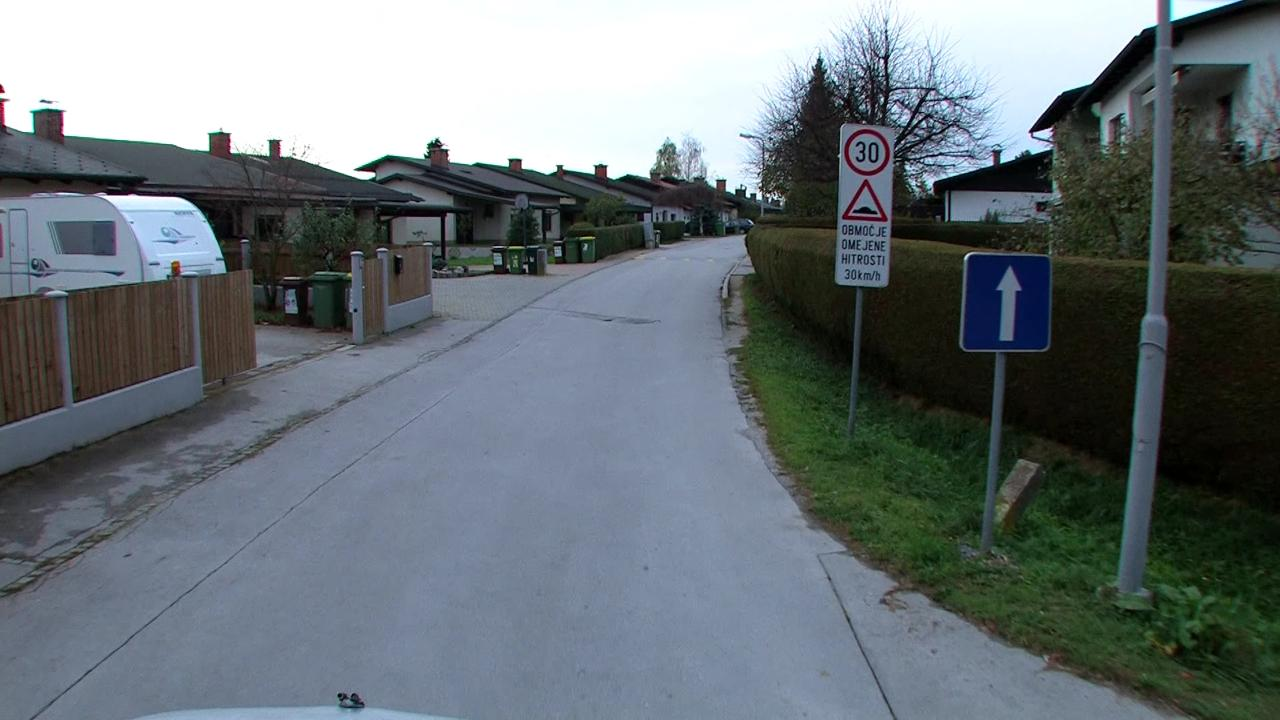Multi-inform: (836, 124, 898, 290)
Squared: (962, 250, 1054, 354)
